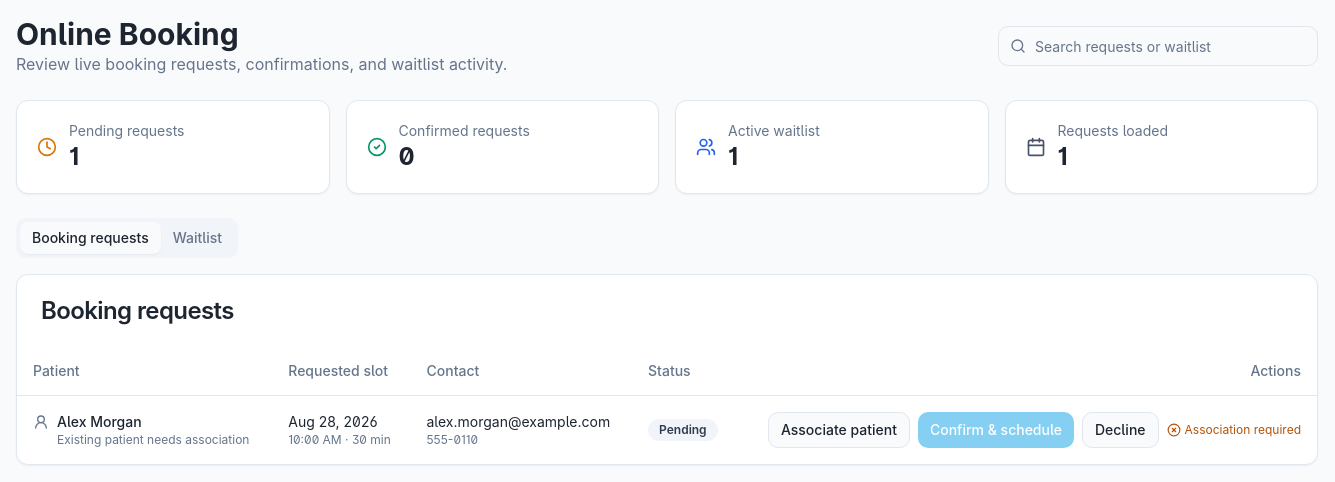
Test case: OnlineBooking Page › renders live requests and waitlist data for a dentist
The width and height of the screenshot is (1335, 482).
Expected: the heading "Online Booking" is shown, [16, 16, 239, 52]
Expected: the text "Alex Morgan" is shown, [57, 412, 142, 430]
Click the tab "Waitlist": (197, 238) [161, 222, 234, 254]
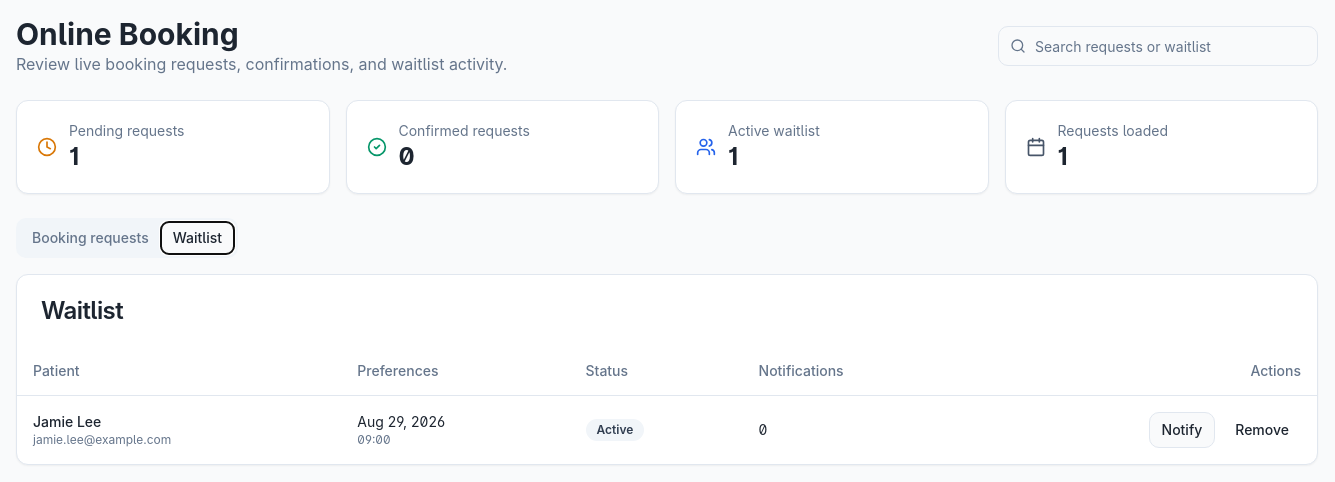
Expected: the text "Jamie Lee" is shown, [33, 412, 101, 430]
Expected: the button "Notify" is shown, [1149, 412, 1215, 448]
